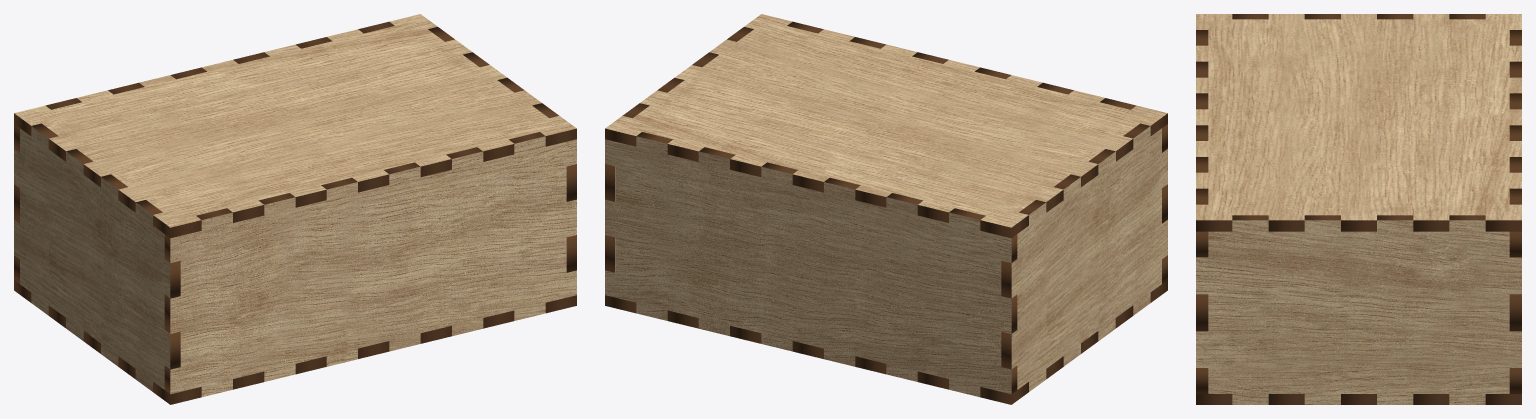
3 views of the same model, side by side, from view 1: azimuth 30°, elevation 25°; view 2: azimuth 150°, elevation 25°; view 3: azimuth 270°, elevation 25° (orthographic). The views are drawn at different scales.
Parts seen in each view (by area): view 1: body2, body1, body4, body0, body3, body5; view 2: body3, body1, body4, body0, body2, body5; view 3: body1, body5, body2, body3, body0, body4.
Boxes of the visible parts, x1,y1,x2,y2 form: body2: [164, 132, 576, 397]; body1: [14, 14, 576, 238]; body4: [14, 123, 180, 391]; body0: [14, 280, 576, 404]; body3: [14, 21, 394, 283]; body5: [428, 27, 576, 272]; body3: [605, 132, 1017, 397]; body1: [605, 14, 1167, 238]; body4: [1001, 123, 1167, 391]; body0: [605, 280, 1167, 404]; body2: [787, 21, 1167, 283]; body5: [605, 27, 753, 272]; body1: [1196, 14, 1521, 231]; body5: [1196, 215, 1521, 404]; body2: [1196, 30, 1208, 393]; body3: [1509, 30, 1521, 393]; body0: [1196, 394, 1521, 404]; body4: [1232, 14, 1485, 19].
Bounding box in the file's own units: 0.12 × 0.05 × 0.08.
Materials: 2 (1 with a texture image).
